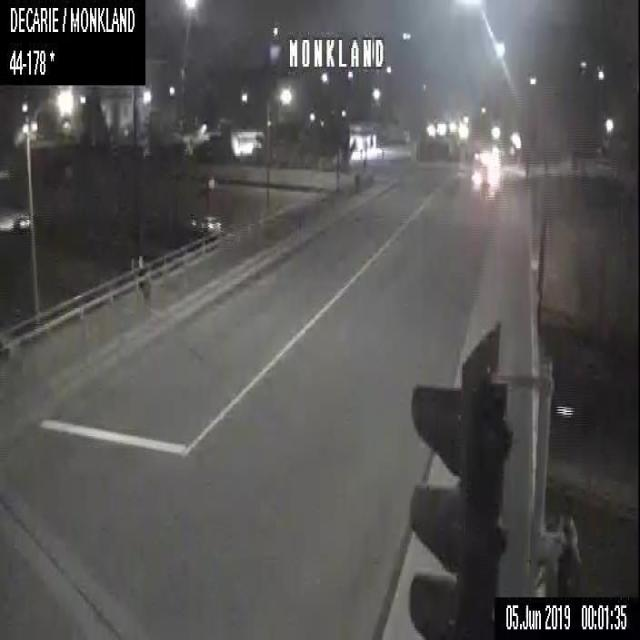vehicle: (470, 155, 498, 185), (188, 211, 226, 233), (11, 211, 29, 233)
